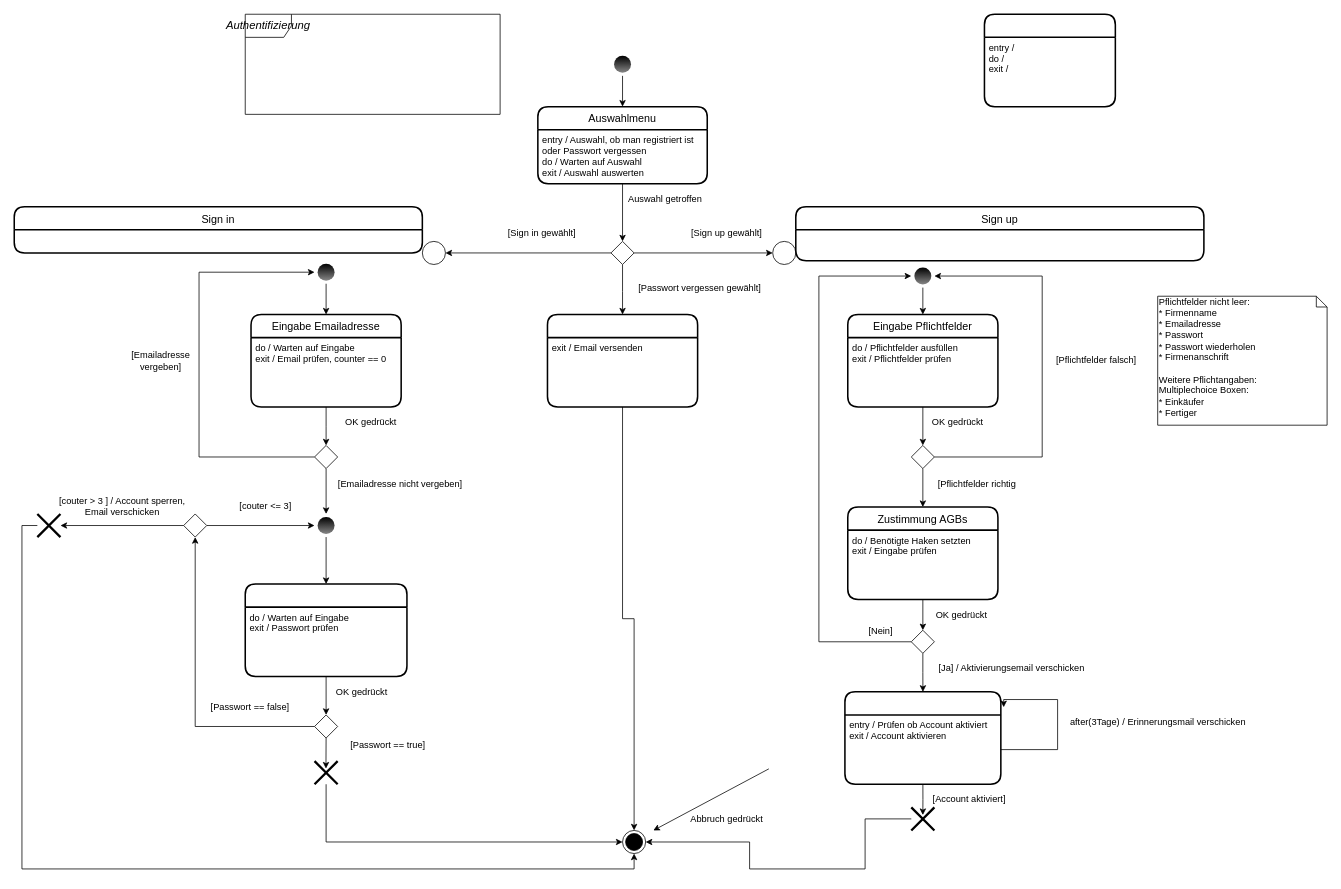
Some shapes in this 1341 by 889 pixel diagram are drawn without their labels. Each missing label, with the box of its shape:
Account Bestätigung: (844, 691, 1001, 785)
Eingabe Passwort: (244, 583, 407, 677)
Passwort vergessen: (546, 313, 698, 407)
Registrierungsprüfung: (983, 13, 1116, 107)
